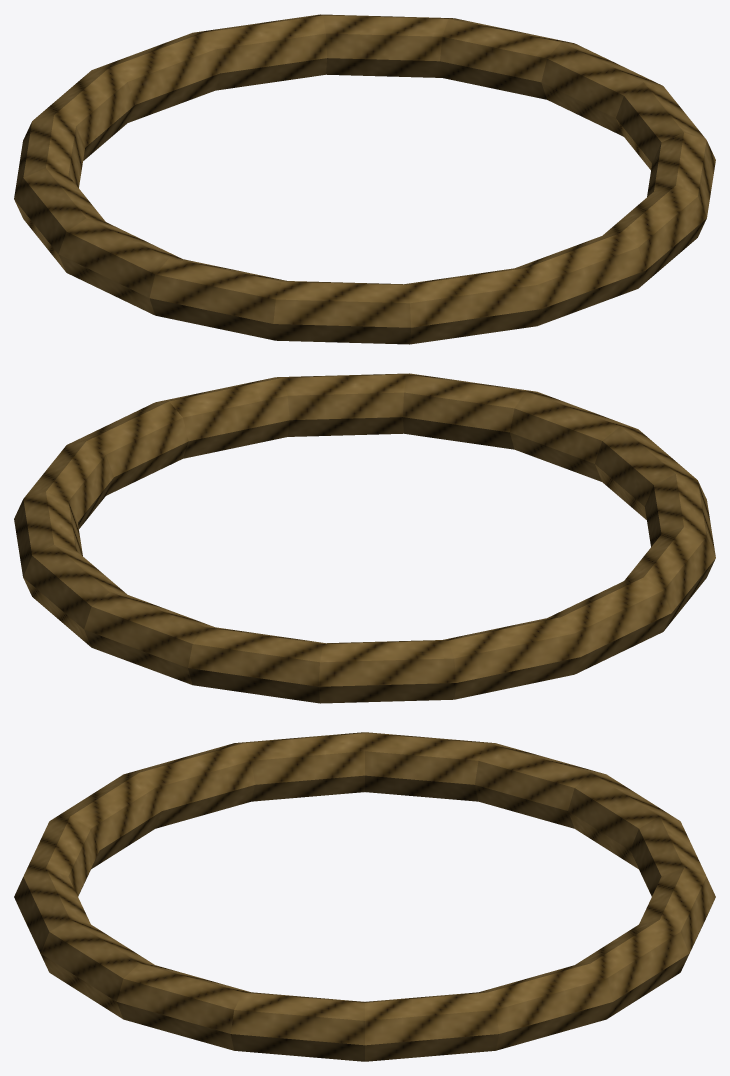
The model's file is Lasso.fbx.
3 views of the same model, one above another, from view 1: azimuth 30°, elevation 25°; view 2: azimuth 150°, elevation 25°; view 3: azimuth 270°, elevation 25° (orthographic).
Visible parts, largest first — view 1: Lasso; view 2: Lasso; view 3: Lasso.
Boxes of the visible parts, x1,y1,x2,y2 form: Lasso: (14, 14, 715, 344); Lasso: (14, 373, 715, 703); Lasso: (14, 732, 715, 1061).
Size of the model in its own units: 124 by 11.25 by 124.
1 material, 1 textured.
